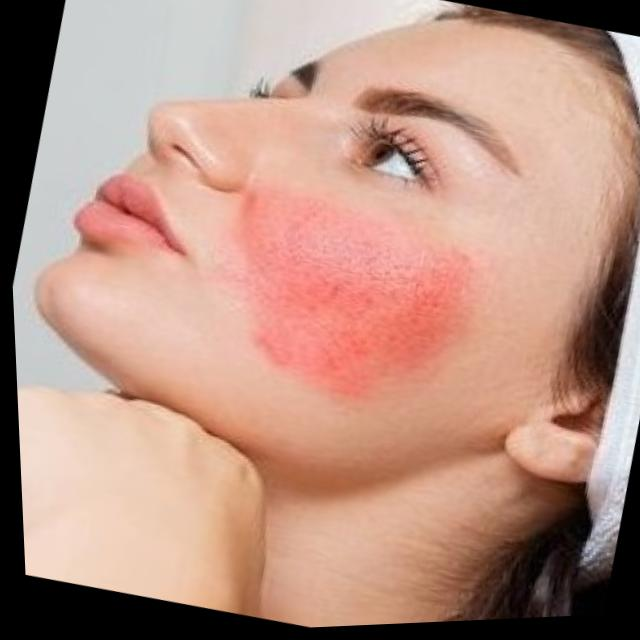skinredness: (190, 168, 502, 436)
